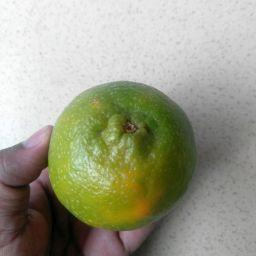Unripe: (47, 81, 196, 228)
